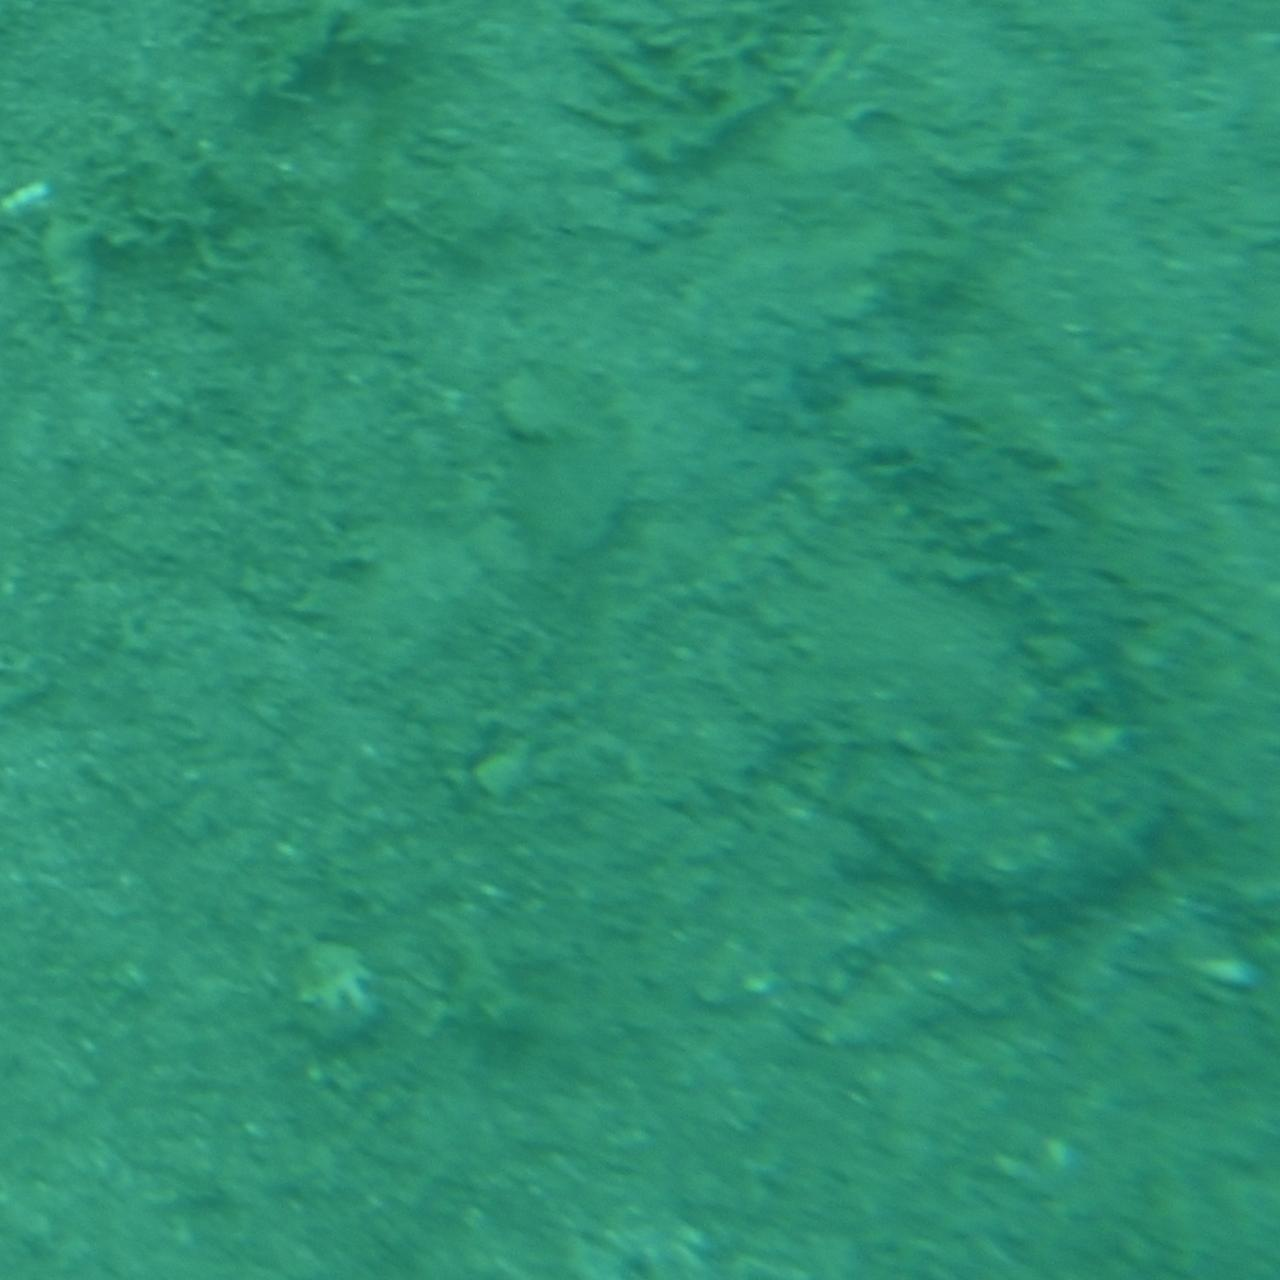Holothuria tubulosa: (755, 350, 1189, 930)
